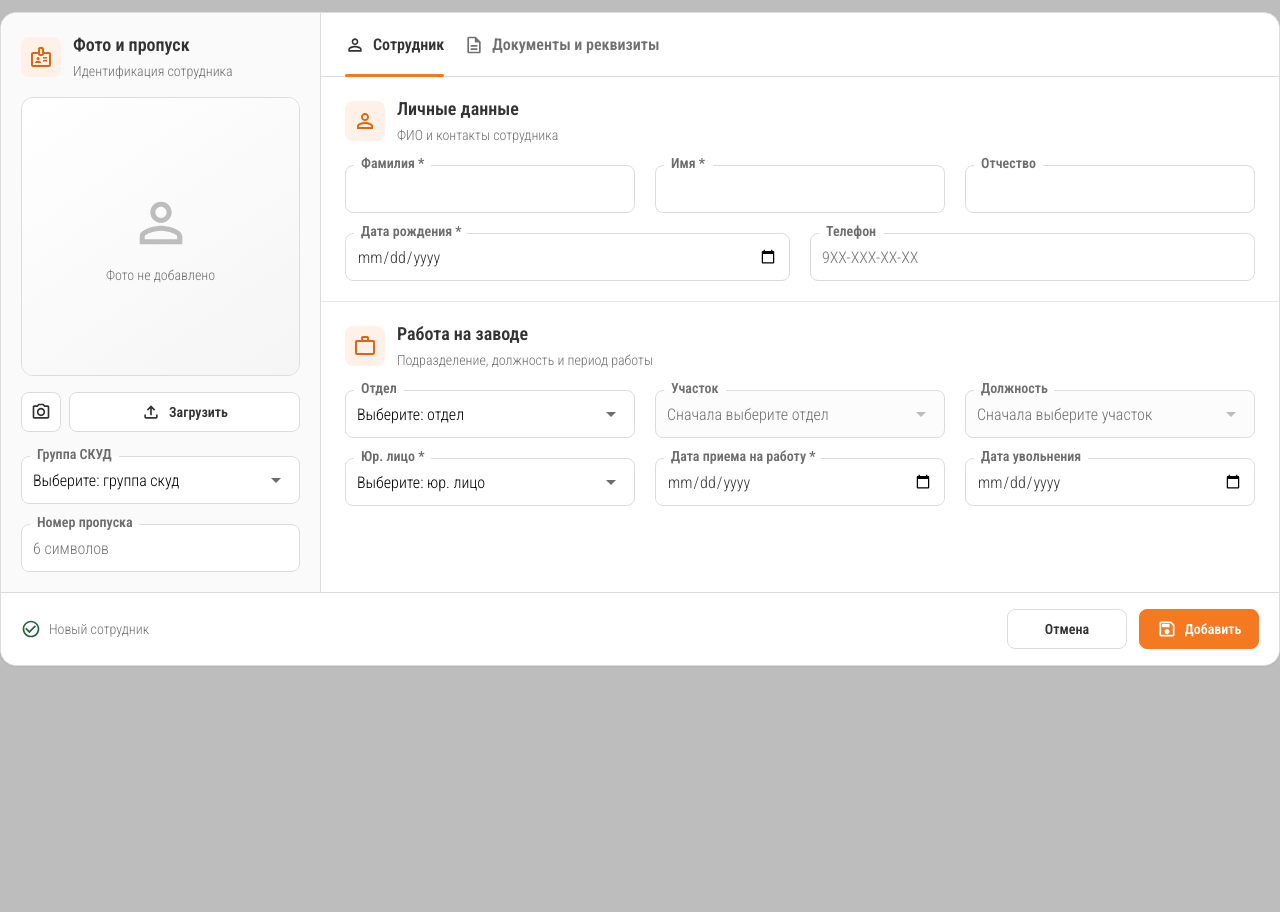
FactoryPersonEdit dependent selects › does not submit a new employee without required fields
Check: the text "Отдел" is shown, box [361,380,397,396]
Click the button "Добавить" at (1199, 629), box [1139,609,1259,649]
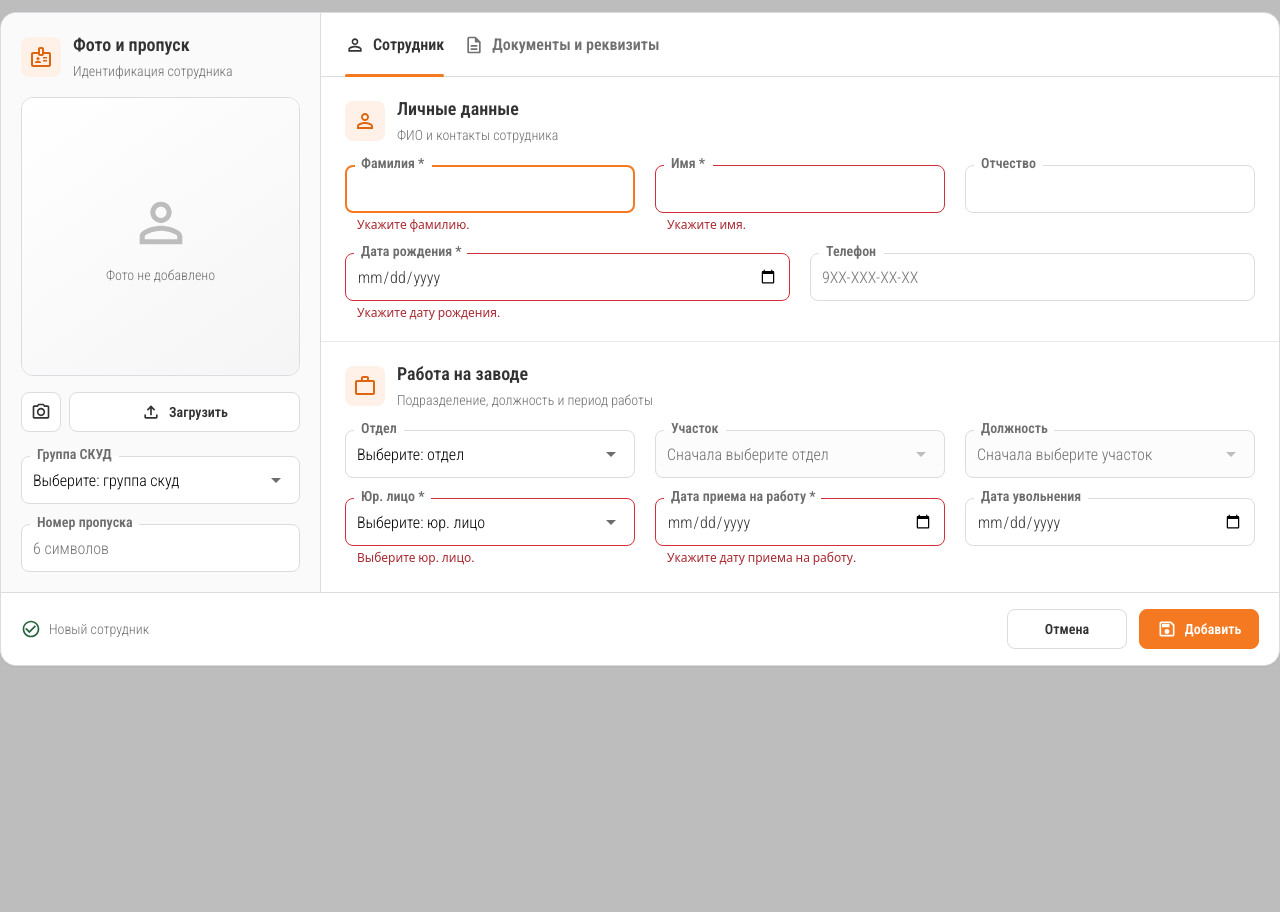
Check: the text "Укажите фамилию." is shown, box [357,218,470,232]
Check: the text "Выберите юр. лицо." is shown, box [357,551,475,565]
